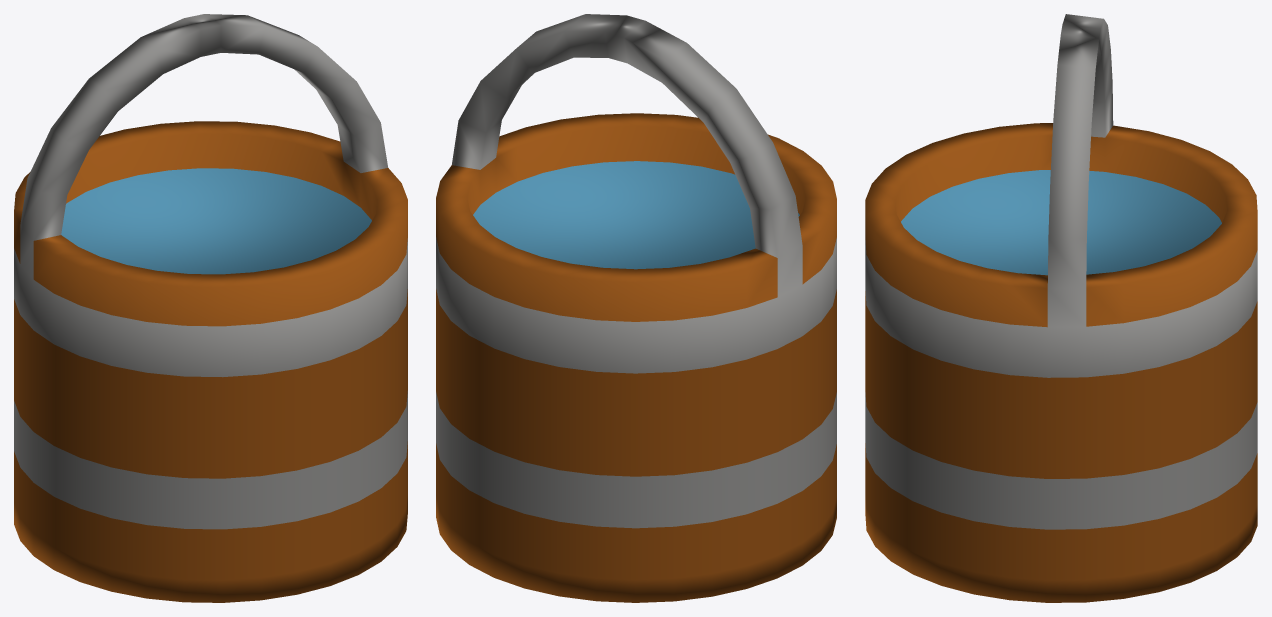
Rendered from BucketFull.fbx.
3 renders of one model, left to right at view 1: azimuth 30°, elevation 25°; view 2: azimuth 150°, elevation 25°; view 3: azimuth 270°, elevation 25°, orthographic.
Parts seen in each view (by area): view 1: BucketWater; view 2: BucketWater; view 3: BucketWater.
Part boxes in pixels (x1,y1,x2,y2): BucketWater: (14,14,407,602); BucketWater: (436,14,836,602); BucketWater: (865,14,1257,602).
Bounding box in the file's own units: 63.51 × 63.51 × 87.72.
